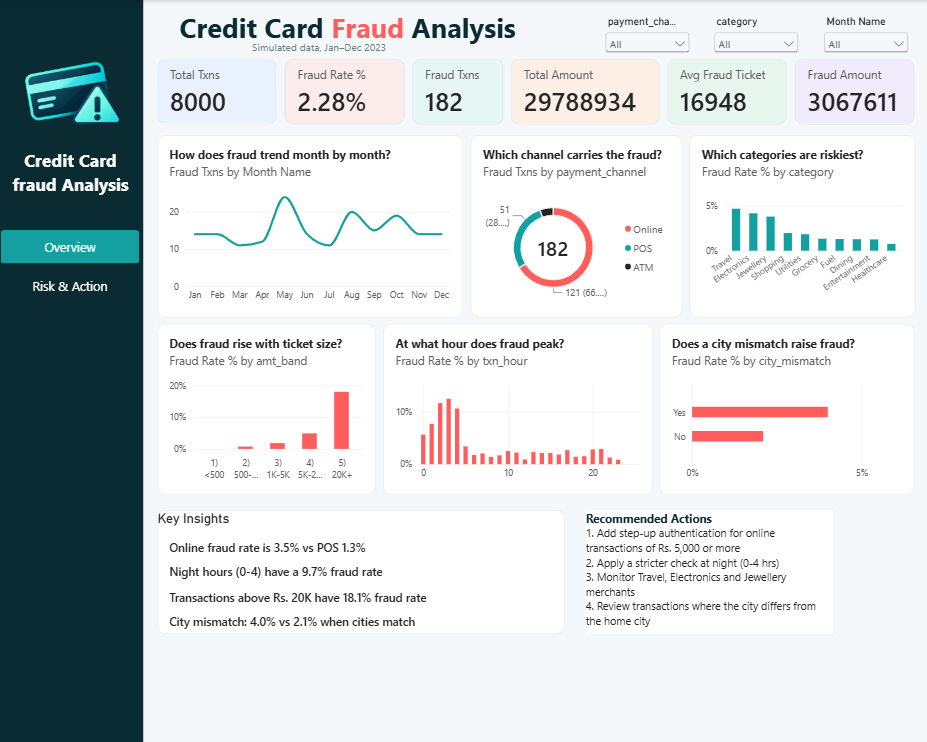

The dashboard page shown, as its layout file describes it:
{"tool":"powerbi","page":{"name":"Overview","canvas":[1280,1024],"ordinal":0},"visuals":[{"type":"shape","box":[0,0,200.8,1024.3],"z":0},{"type":"cardVisual","fields":{"Data":["txn.Total Txns"]},"box":[220,80,165,90],"z":1000},{"type":"cardVisual","fields":{"Data":["txn.Fraud Txns"]},"box":[570,80,126.7,90],"z":2000},{"type":"cardVisual","fields":{"Data":["txn.Fraud Rate %"]},"box":[395,80,165,90],"z":3000},{"type":"cardVisual","fields":{"Data":["txn.Total Amount"]},"box":[705,80,205,90],"z":4000},{"type":"donutChart","title":"Which channel carries the fraud?","fields":{"Category":["txn.payment_channel"],"Y":["txn.Fraud Txns"]},"box":[650,185,290,250],"z":5000},{"type":"clusteredColumnChart","title":"Which categories are riskiest?","fields":{"Category":["txn.category"],"Y":["txn.Fraud Rate %"]},"box":[950,185,310,250],"z":6000},{"type":"lineChart","title":"How does fraud trend month by month?","fields":{"Category":["Date.Month Name"],"Y":["txn.Fraud Txns"]},"box":[220,185,420,250],"z":7000},{"type":"clusteredColumnChart","title":"At what hour does fraud peak?","fields":{"Category":["txn.txn_hour"],"Y":["txn.Fraud Rate %"]},"box":[530,445,370,235],"z":8000},{"type":"clusteredColumnChart","title":"Does fraud rise with ticket size?","fields":{"Category":["txn.amt_band"],"Y":["txn.Fraud Rate %"]},"box":[220,445,300,235],"z":9000},{"type":"slicer","fields":{"Values":["txn.payment_channel"]},"box":[830,20,125,55],"z":10000},{"type":"slicer","fields":{"Values":["txn.category"]},"box":[980,20,125,55],"z":11000},{"type":"slicer","fields":{"Values":["Date.Month Name"]},"box":[1130,20,125,55],"z":12000},{"type":"cardVisual","fields":{"Data":["txn.Fraud Amount"]},"box":[1095,80,165,90],"z":13000},{"type":"cardVisual","fields":{"Data":["txn.Avg Fraud Ticket"]},"box":[920,80,165,90],"z":14000},{"type":"clusteredBarChart","title":"Does a city mismatch raise fraud?","fields":{"Category":["txn.city_mismatch"],"Y":["txn.Fraud Rate %"]},"box":[910,445,350,235],"z":15000},{"type":"textbox","box":[250,11.7,501,60.1],"z":16000},{"type":"textbox","box":[350,55,300.3,32.6],"z":17000},{"type":"cardVisual","title":"Key Insights","fields":{"Data":["Date.Insight Channel","Date.Insight Night","Date.Insight Amount","Date.Insight City"]},"box":[220,700,560,170],"z":18000},{"type":"textbox","box":[808,700,340,170],"z":19000},{"type":"pageNavigator","box":[5,315,190,100],"z":20501},{"type":"image","box":[23.3,70,155,115],"z":20502},{"type":"textbox","box":[5,203.3,191.7,70],"z":20503}]}

Visuals, with their boxes in screenshot pixels (x1, y1, x2, y2), scaled from the page's 1280x1024 canvas onto the 927x742 screenshot:
shape: bbox=(0, 0, 145, 741)
cardVisual - txn.Total Txns: bbox=(159, 58, 279, 123)
cardVisual - txn.Fraud Txns: bbox=(413, 58, 505, 123)
cardVisual - txn.Fraud Rate %: bbox=(286, 58, 406, 123)
cardVisual - txn.Total Amount: bbox=(511, 58, 659, 123)
"Which channel carries the fraud?" donutChart: bbox=(471, 134, 681, 315)
"Which categories are riskiest?" clusteredColumnChart: bbox=(688, 134, 913, 315)
"How does fraud trend month by month?" lineChart: bbox=(159, 134, 464, 315)
"At what hour does fraud peak?" clusteredColumnChart: bbox=(384, 322, 652, 493)
"Does fraud rise with ticket size?" clusteredColumnChart: bbox=(159, 322, 377, 493)
slicer - txn.payment_channel: bbox=(601, 14, 692, 54)
slicer - txn.category: bbox=(710, 14, 800, 54)
slicer - Date.Month Name: bbox=(818, 14, 909, 54)
cardVisual - txn.Fraud Amount: bbox=(793, 58, 913, 123)
cardVisual - txn.Avg Fraud Ticket: bbox=(666, 58, 786, 123)
"Does a city mismatch raise fraud?" clusteredBarChart: bbox=(659, 322, 913, 493)
textbox: bbox=(181, 8, 544, 52)
textbox: bbox=(253, 40, 471, 63)
"Key Insights" cardVisual: bbox=(159, 507, 565, 630)
textbox: bbox=(585, 507, 831, 630)
pageNavigator: bbox=(4, 228, 141, 301)
image: bbox=(17, 51, 129, 134)
textbox: bbox=(4, 147, 142, 198)
